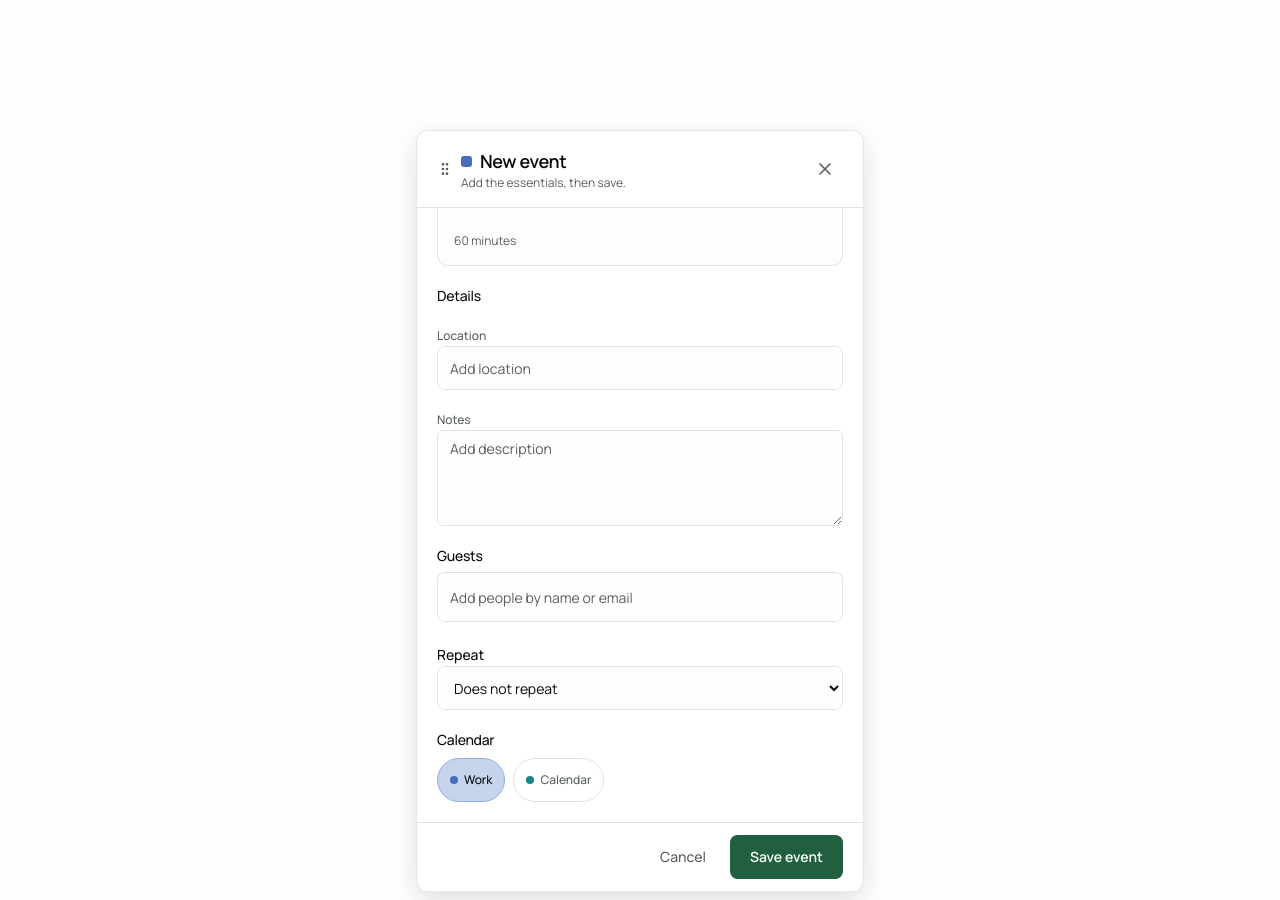
Test: EventModal — new event › requires a weekday before saving a weekly recurrence
(page scrolled)
Select "Weekly" in the dropdown labelled "Repeat". click: (640, 688)
box: [437,666,843,710]
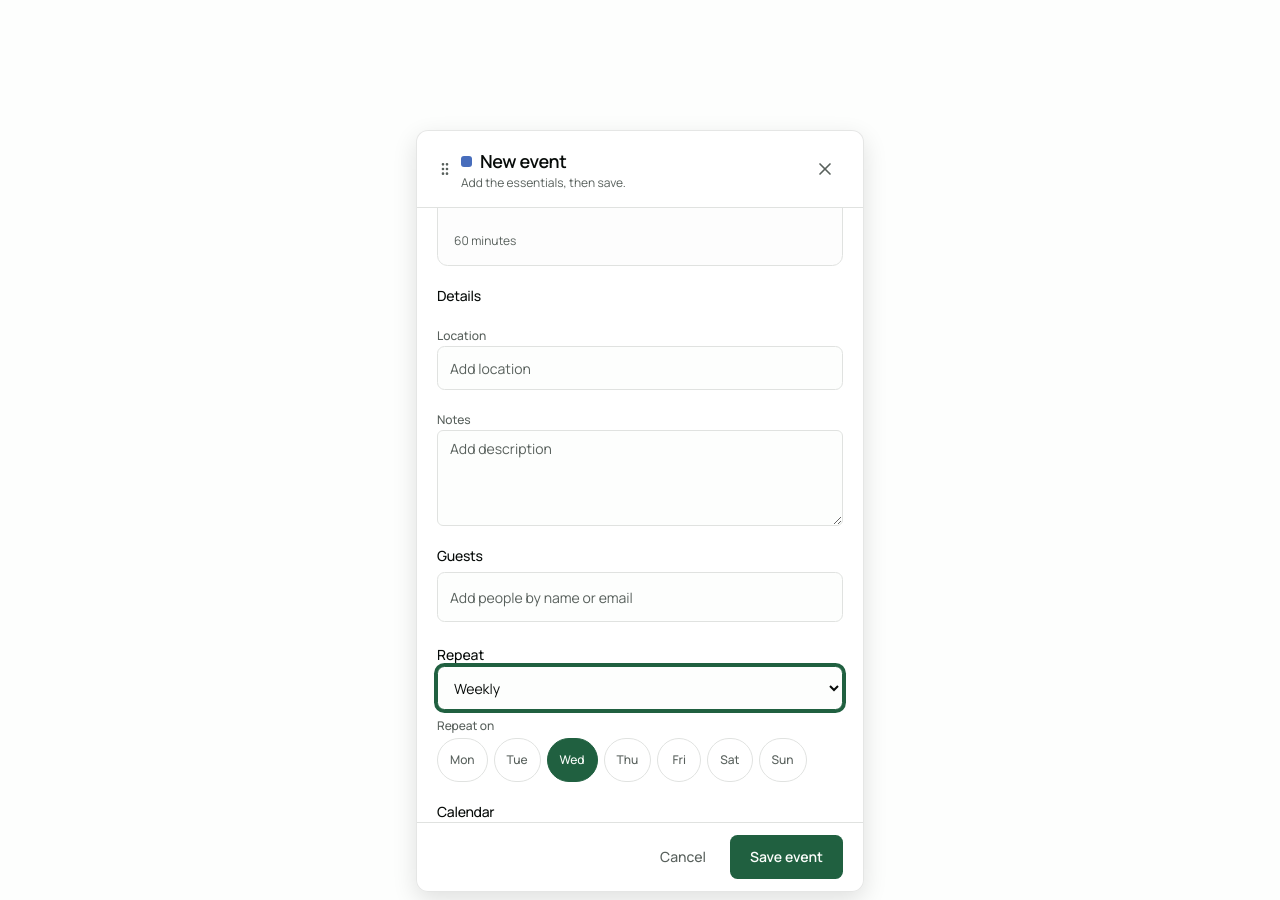
Click the button "Wed". click: (572, 760)
box: [547,738,598,782]
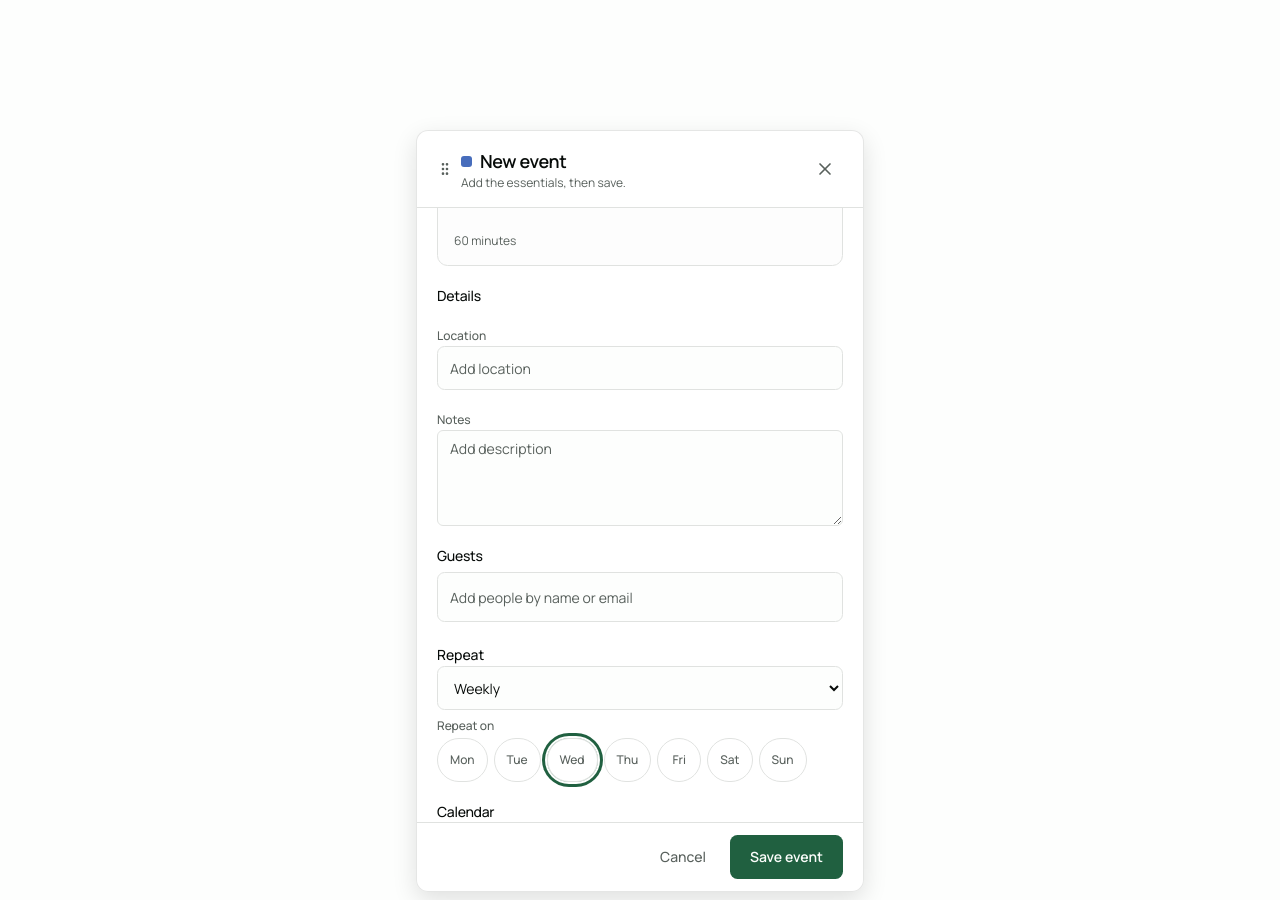
Click the button "Save event". click: (786, 857)
box: [730,835,843,879]
(page scrolled)
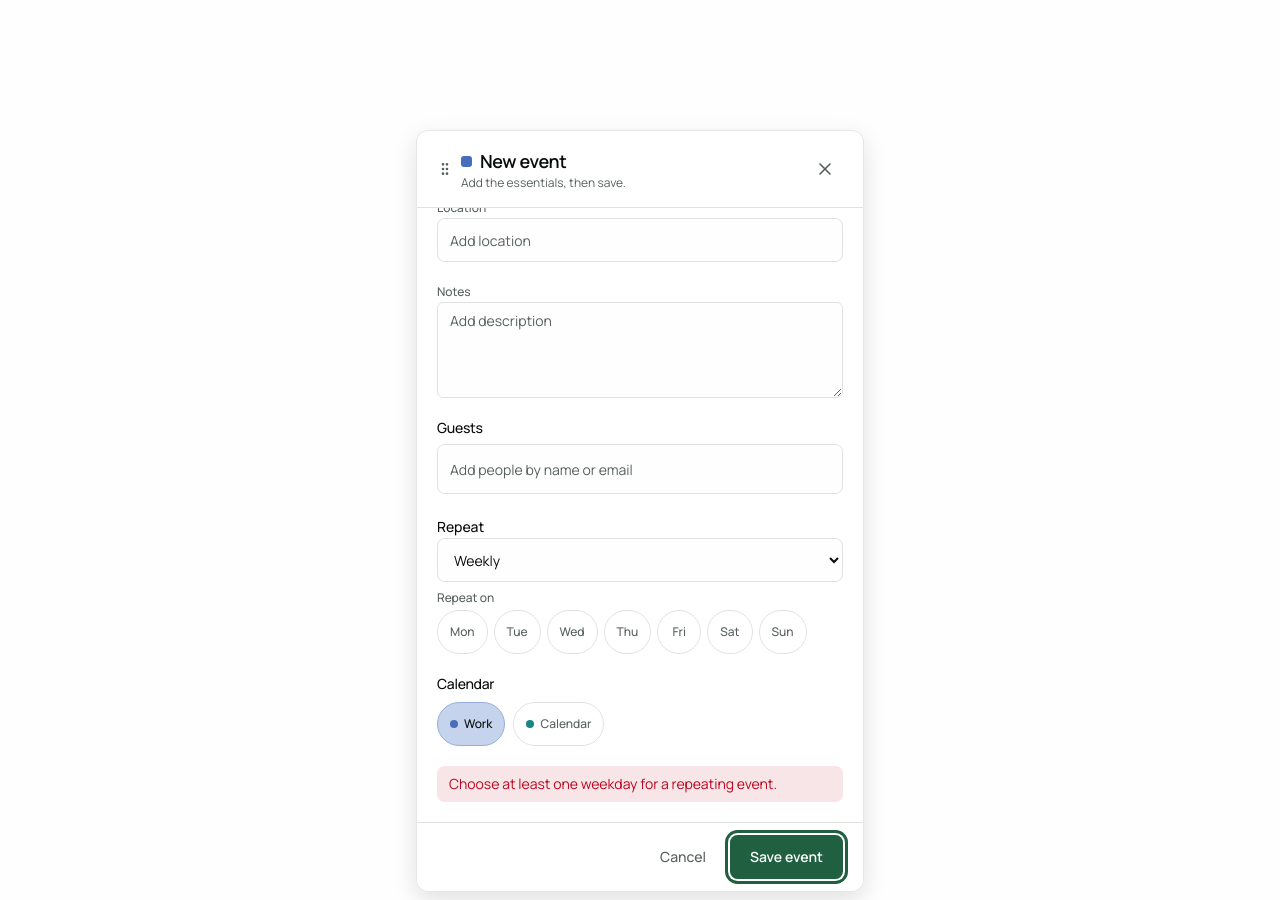
Now the text "Choose at least one weekday for a repeating event." is shown, box [437,766,843,802]
